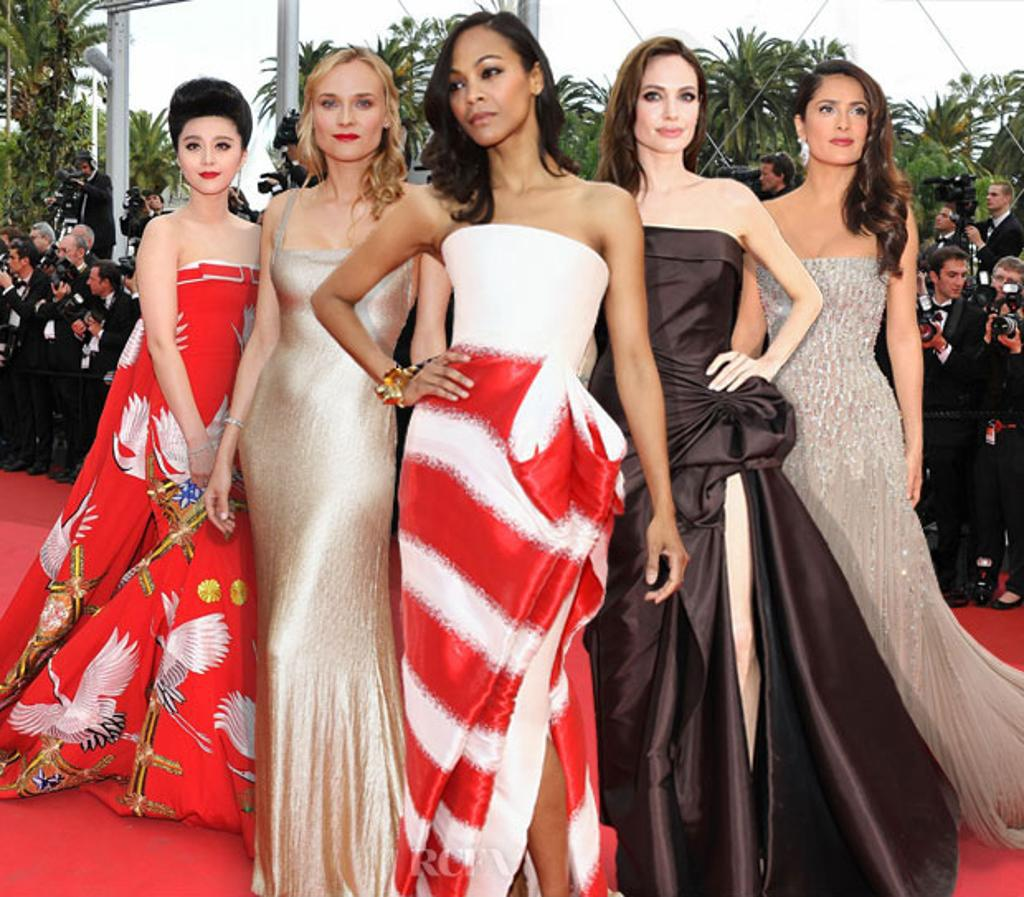face: (448, 39, 527, 147), (313, 75, 385, 162), (634, 65, 699, 154), (809, 83, 869, 165), (178, 122, 241, 195), (941, 261, 969, 300), (993, 270, 1023, 302), (759, 165, 777, 192), (59, 242, 77, 266), (87, 270, 103, 296), (72, 230, 86, 257), (987, 188, 1004, 210), (935, 210, 952, 231), (7, 250, 21, 274), (29, 231, 44, 253), (147, 195, 162, 209), (78, 162, 90, 178), (287, 144, 298, 160), (1, 237, 10, 253)
